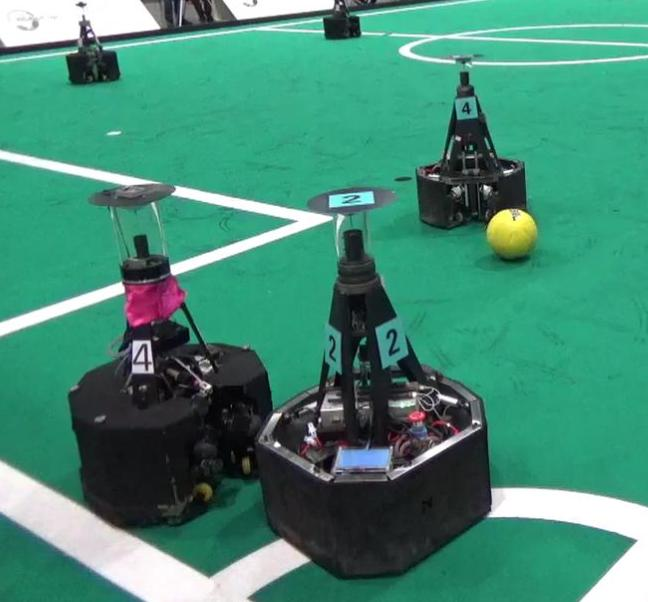robot: (252, 184, 494, 583), (53, 182, 281, 534), (411, 49, 533, 232)
